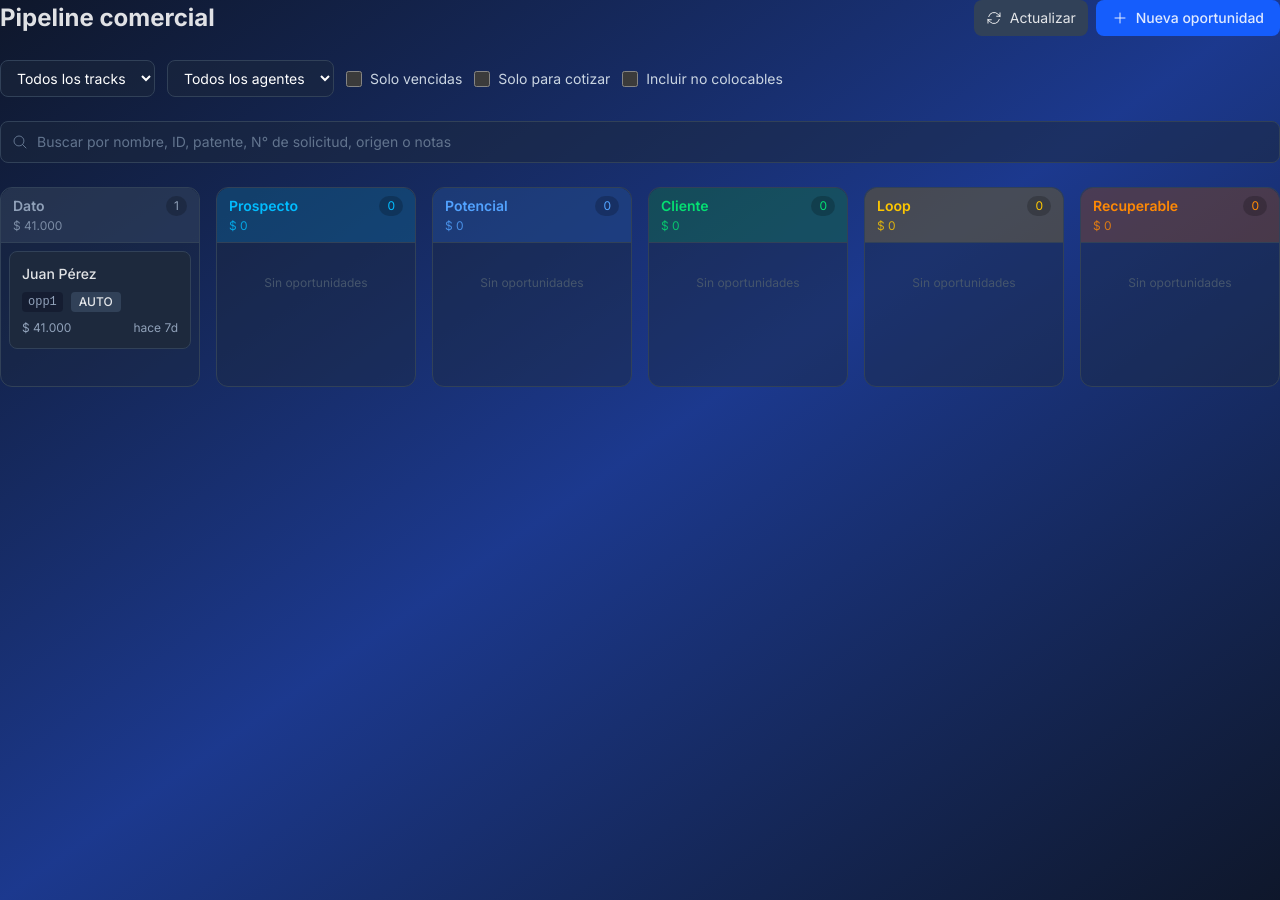
Test case: el motivo es obligatorio (C-6l punto 2) › el texto dice qué pasa y qué queda
Step 1. Click the text "Juan Pérez" → (59,274), box top-left (22, 264), bottom-right (97, 284)
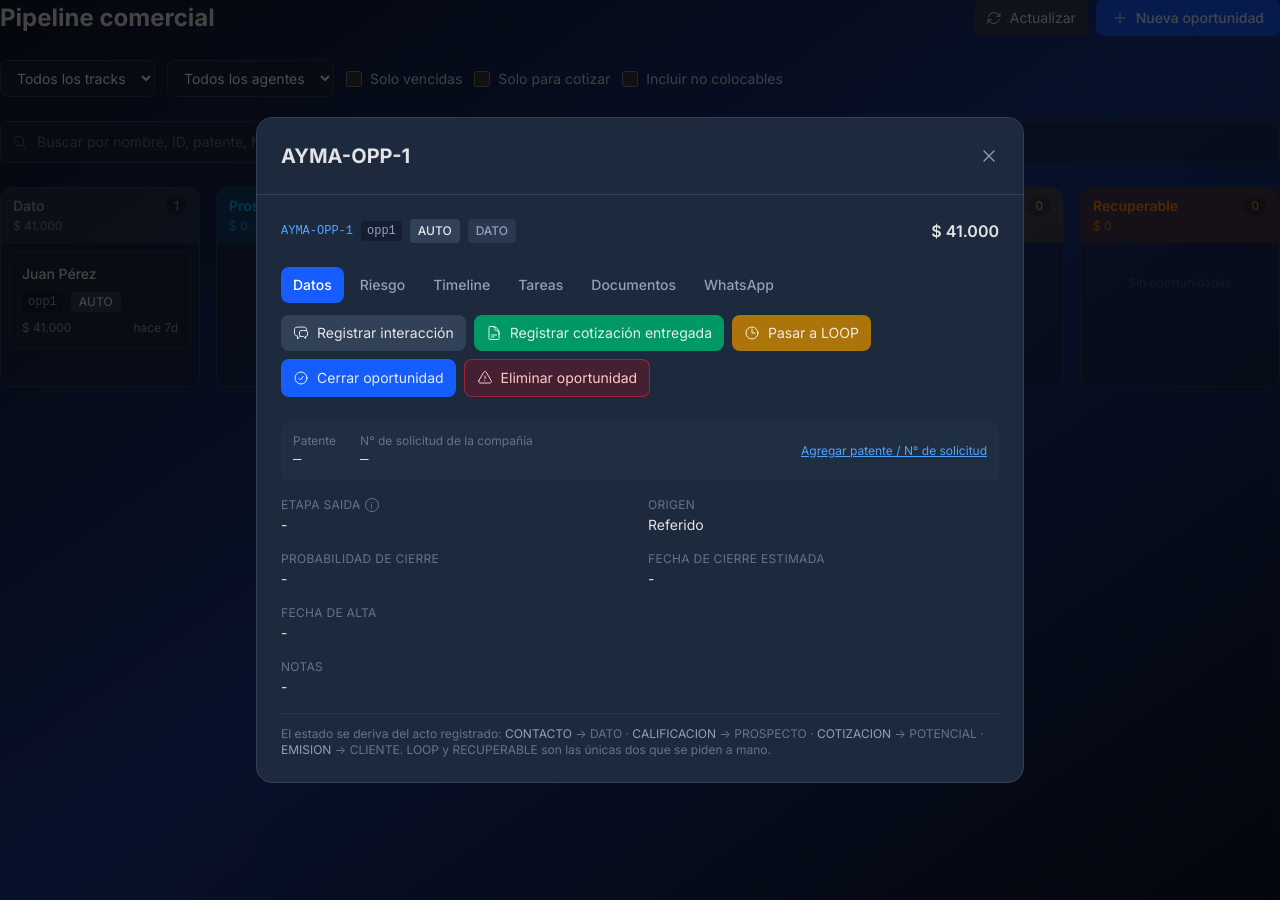
Step 2. Click the button "Eliminar oportunidad" → (557,378), box top-left (464, 359), bottom-right (650, 397)
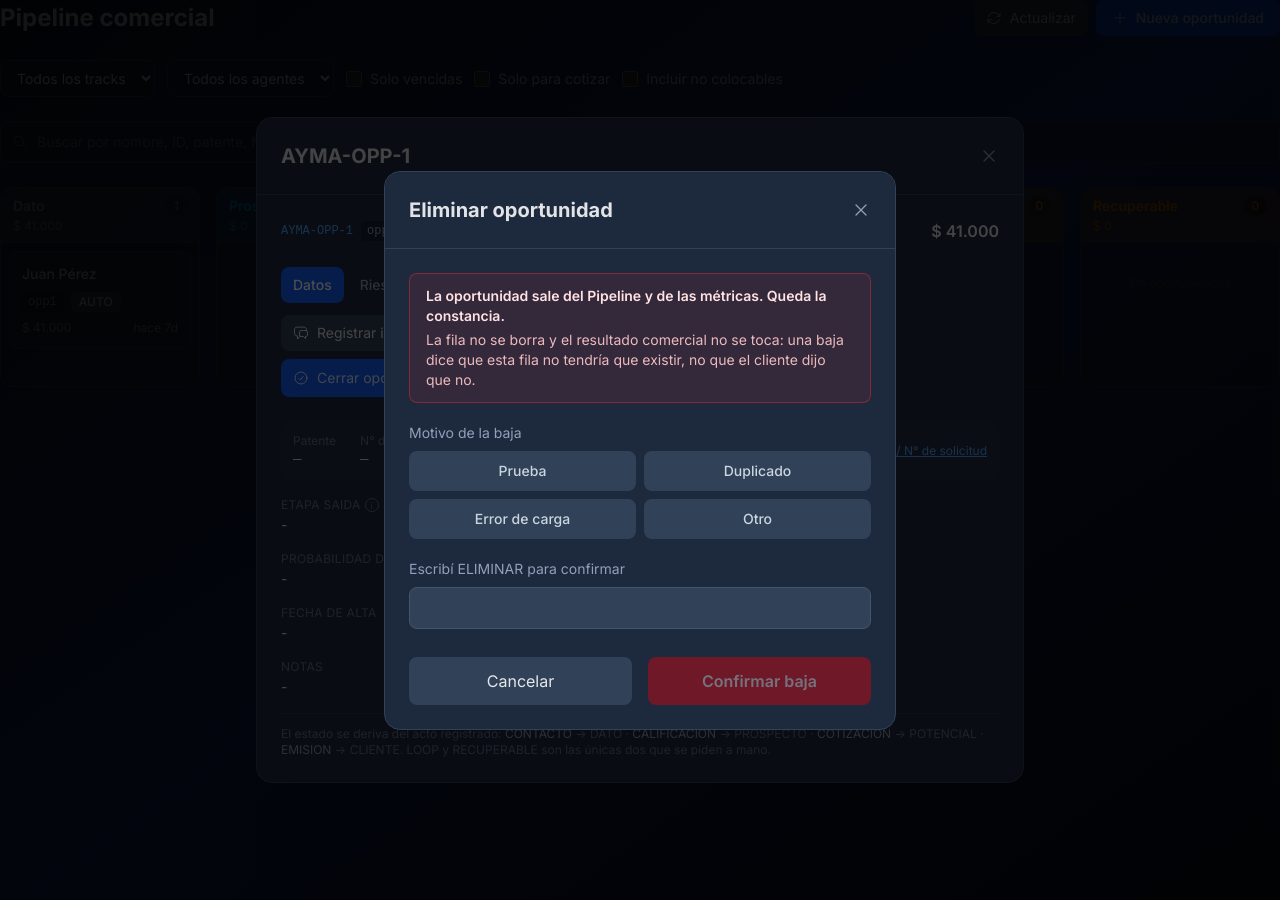
Result: the text "La oportunidad sale del Pipeline y de las métricas. Queda la constancia." is shown at top-left (426, 286), bottom-right (854, 326)
